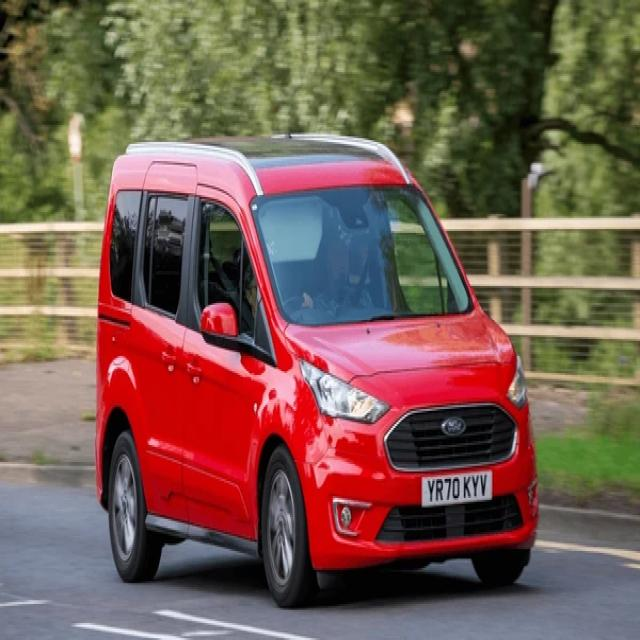ford: (442, 418, 466, 438)
